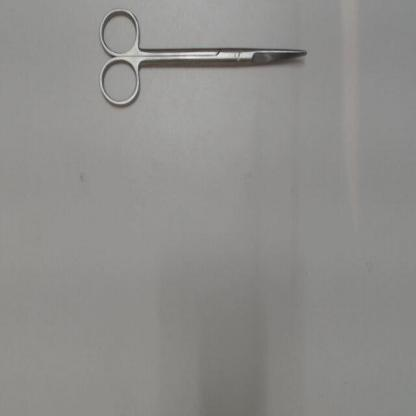Curved Mayo Scissors: (94, 5, 306, 116)
